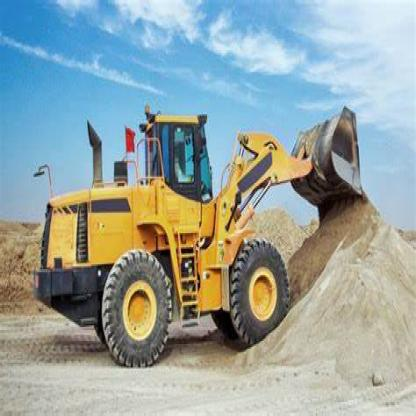bull_dozer/loader/grader: (30, 81, 376, 382)
